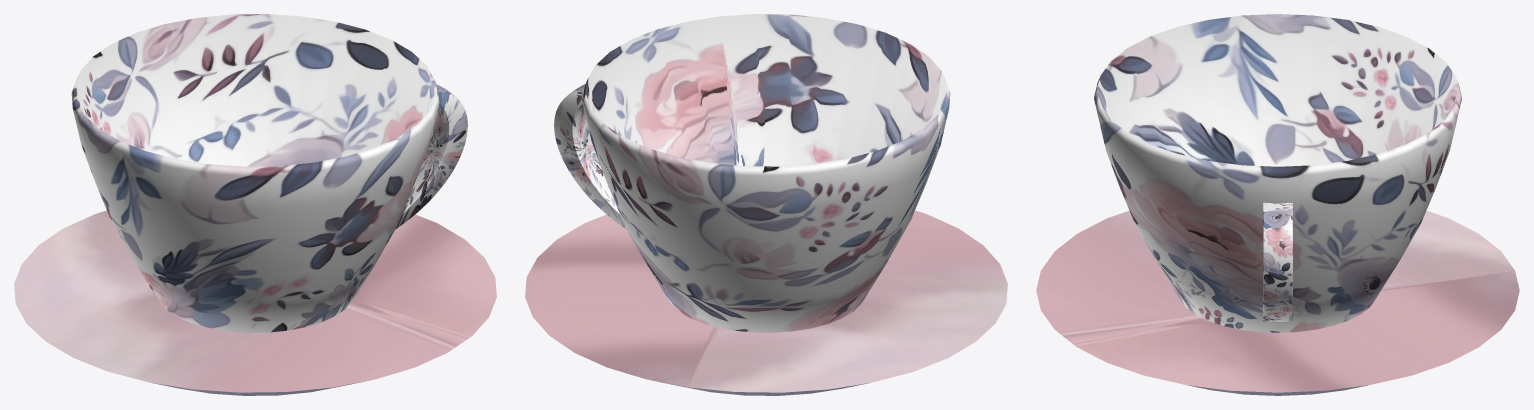
Rendered from teaCup.fbx.
3 renders of one model, left to right at view 1: azimuth 30°, elevation 25°; view 2: azimuth 150°, elevation 25°; view 3: azimuth 270°, elevation 25°, orthographic.
Parts seen in each view (by area): view 1: Circle, Circle.001, Circle.002; view 2: Circle, Circle.001, Circle.002; view 3: Circle, Circle.001, Circle.002.
Boxes of the visible parts, x1,y1,x2,y2 form: Circle: (71, 14, 439, 332); Circle.001: (14, 210, 496, 395); Circle.002: (395, 84, 467, 229); Circle: (582, 14, 950, 332); Circle.001: (525, 210, 1007, 395); Circle.002: (554, 84, 626, 229); Circle: (1094, 14, 1461, 332); Circle.001: (1036, 210, 1519, 395); Circle.002: (1263, 202, 1292, 321).
Size of the model in its own units: 557 by 296 by 557.
Materials: 1 (1 with a texture image).
